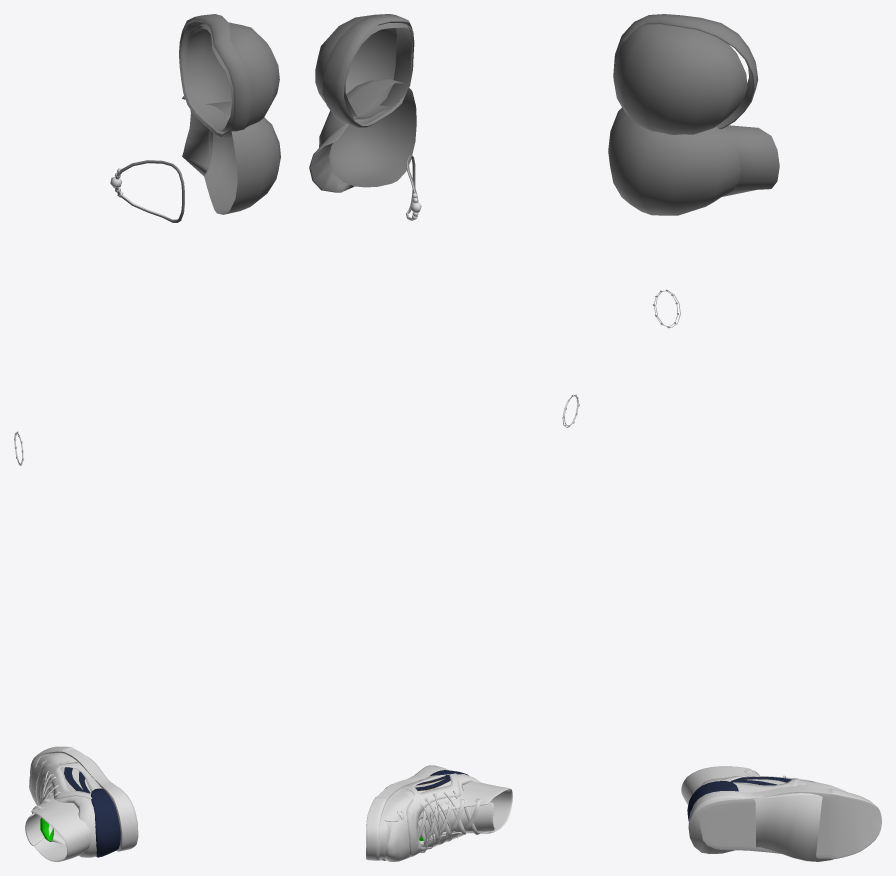
Rendered from Complementos.fbx.
3 renders of one model, left to right at view 1: azimuth 30°, elevation 25°; view 2: azimuth 150°, elevation 25°; view 3: azimuth 270°, elevation 25°, orthographic. The views are drawn at different scales.
Visible parts, largest first — view 1: Gorro, Gorra, Bambas, Zapatillas, Collar01; view 2: Gorro, Gorra, Zapatillas, Bambas; view 3: Gorro, Gorra, Zapatillas, Bambas.
Part boxes in pixels (left/top/right/bottom): Gorro: left=179, top=14, right=279, bottom=138; Gorra: left=182, top=96, right=280, bottom=214; Bambas: left=29, top=756, right=138, bottom=857; Zapatillas: left=25, top=746, right=112, bottom=861; Collar01: left=115, top=160, right=184, bottom=222; Gorro: left=315, top=14, right=414, bottom=127; Gorra: left=309, top=79, right=416, bottom=192; Zapatillas: left=366, top=774, right=512, bottom=860; Bambas: left=380, top=765, right=490, bottom=861; Gorro: left=613, top=14, right=758, bottom=134; Gorra: left=608, top=107, right=779, bottom=215; Zapatillas: left=681, top=766, right=881, bottom=859; Bambas: left=687, top=775, right=832, bottom=861.
Size of the model in its own units: 50.61 by 42.84 by 153.
